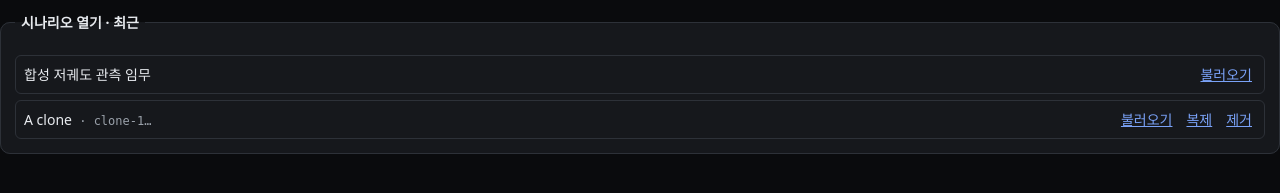
Test: ScenarioLibrary load (FE-16) › loads a DRAFT-only (cloned) scenario via its newest revision (CLOSE-04)
Click the button "불러오기" in the row of "A clone".
click(1147, 120)  # box [1117,107,1176,132]
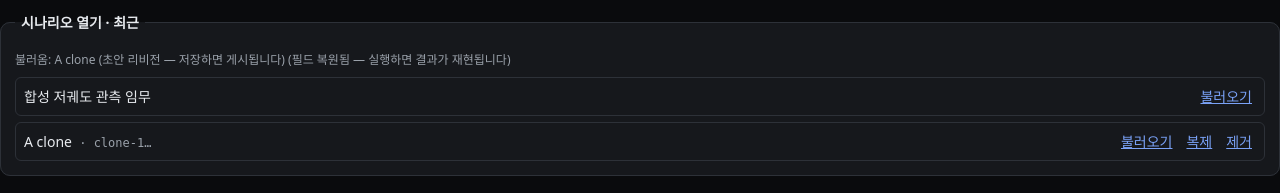
Check: the text "불러옴: A clone (초안 리비전 — 저장하면 게시됩니다) (필드 복원됨 — 실행하면 결과가 재현됩니다)" is shown, box [15,51,510,68]
